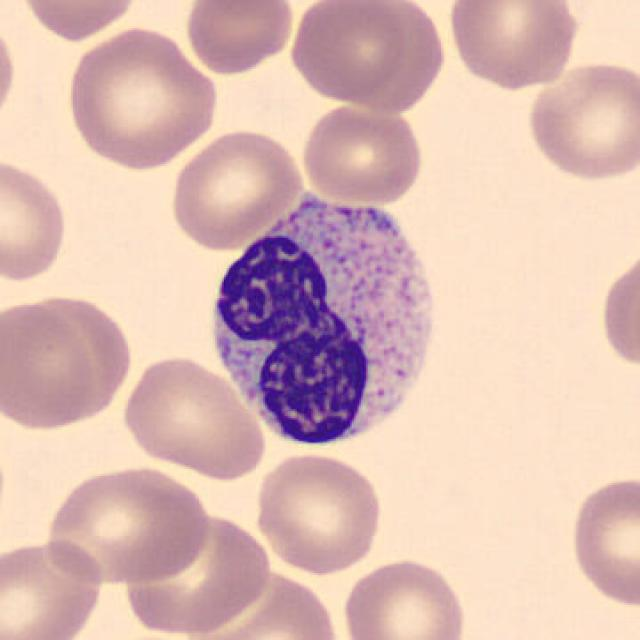Neutrophil: (201, 185, 448, 459)
RBC: (62, 23, 222, 171), (115, 504, 278, 636), (41, 462, 211, 585), (118, 351, 268, 481), (0, 294, 130, 433), (250, 448, 386, 576), (167, 126, 306, 250), (523, 56, 638, 184), (298, 100, 426, 206), (334, 2, 450, 118), (286, 0, 411, 106), (445, 0, 583, 92), (182, 566, 348, 640), (337, 553, 471, 640), (0, 534, 108, 640), (566, 471, 638, 610), (0, 154, 71, 286), (181, 0, 297, 78), (14, 0, 146, 44), (596, 244, 638, 376), (0, 10, 21, 134)
